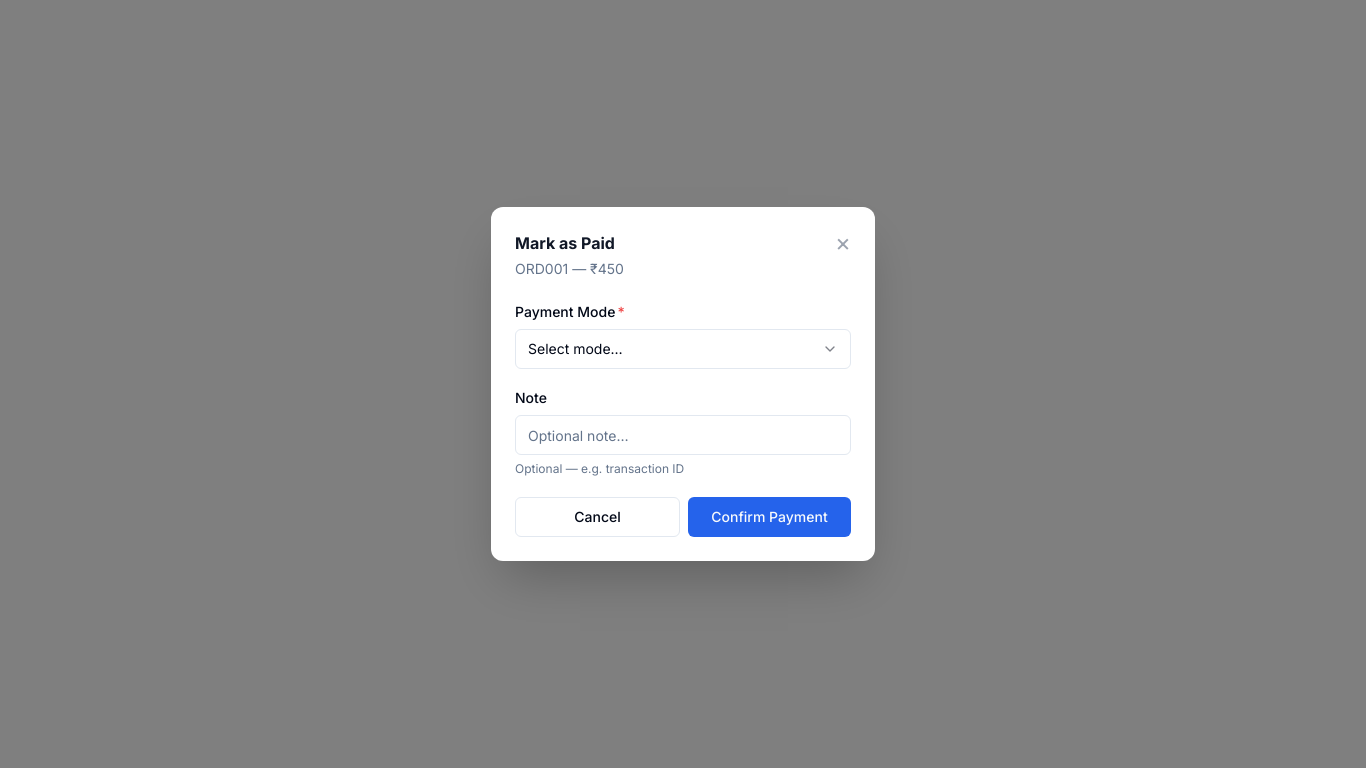
PaymentDialog › shows a validation error when submitting without selecting a payment mode
The image size is (1366, 768).
Click the button "Confirm Payment" at (770, 517), box [688,497,851,537]
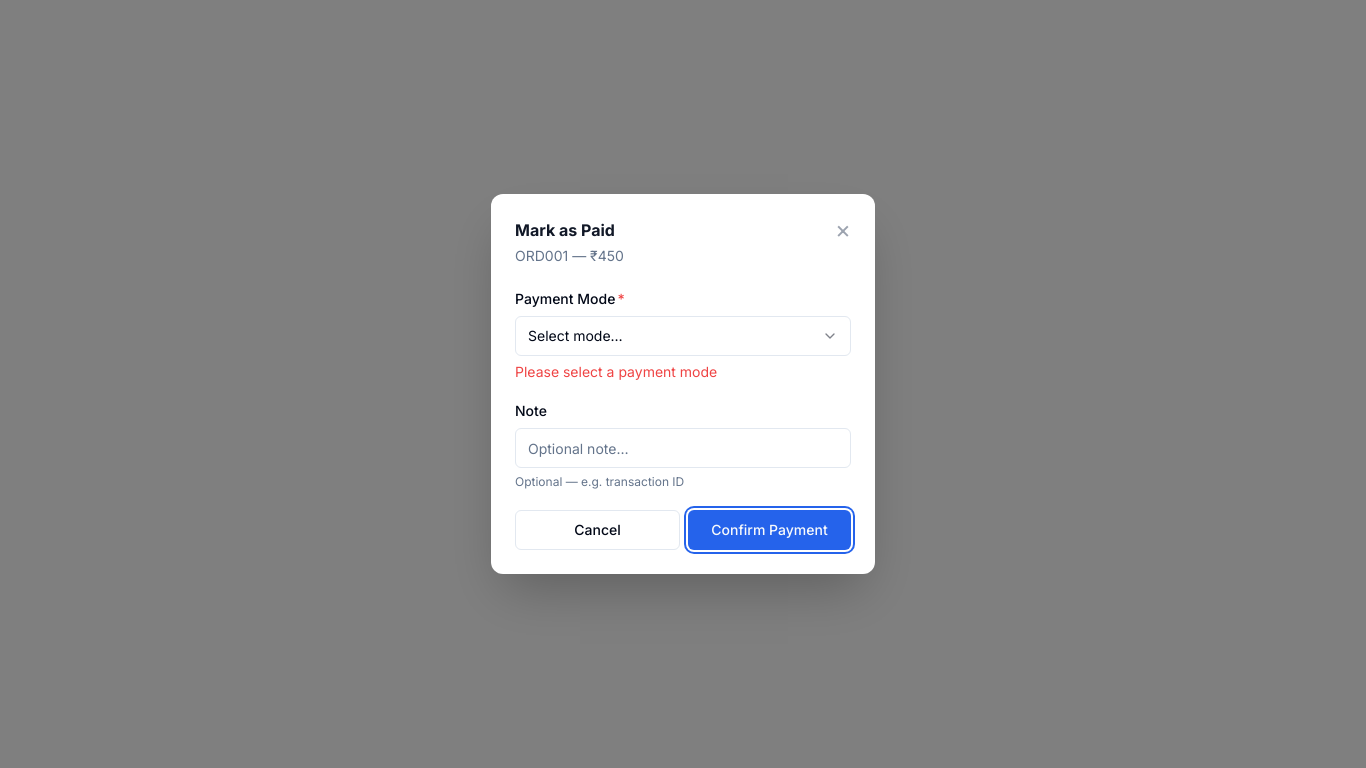
expect the text "Please select a payment mode" is shown: met, box [515,363,717,380]
